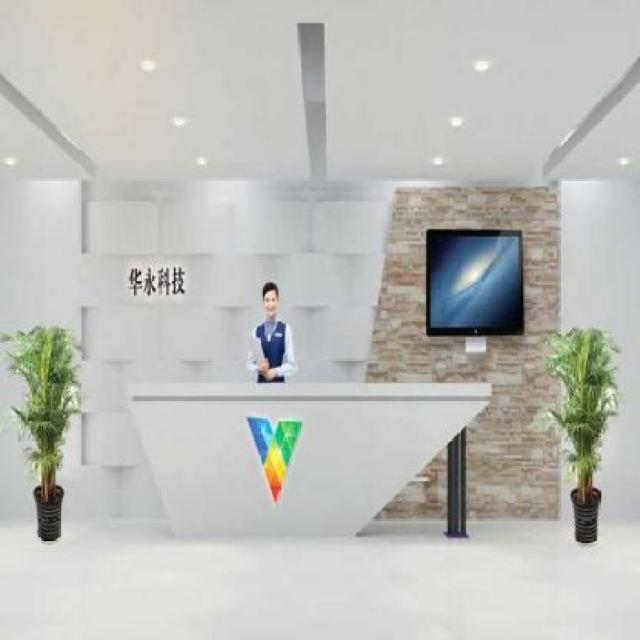frontdesk: (120, 371, 497, 539)
